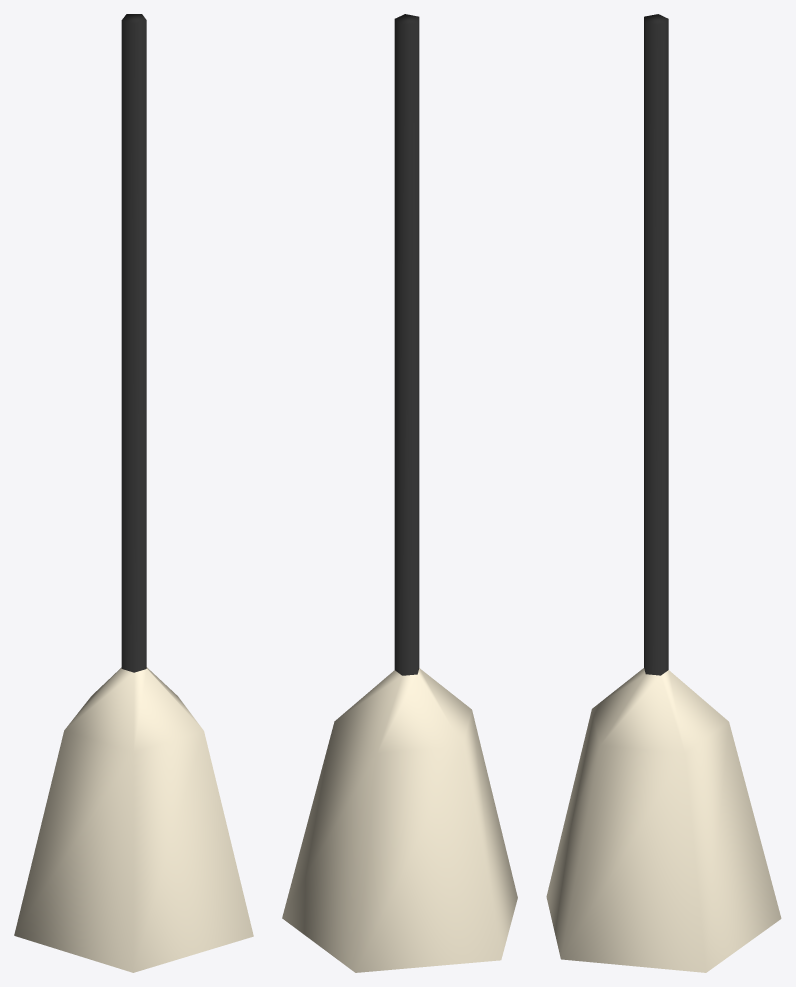
The model's file is CeilingLight_Off.glb.
3 views of the same model, side by side, from view 1: azimuth 30°, elevation 25°; view 2: azimuth 150°, elevation 25°; view 3: azimuth 270°, elevation 25° (orthographic).
Visible parts, largest first — view 1: ceilingLight_Off; view 2: ceilingLight_Off; view 3: ceilingLight_Off.
Boxes of the visible parts, x1,y1,x2,y2 form: ceilingLight_Off: (14, 14, 253, 972); ceilingLight_Off: (282, 14, 517, 972); ceilingLight_Off: (546, 14, 781, 972).
Size of the model in its own units: 0.2242 by 0.9339 by 0.22.
1 material, 1 textured.
